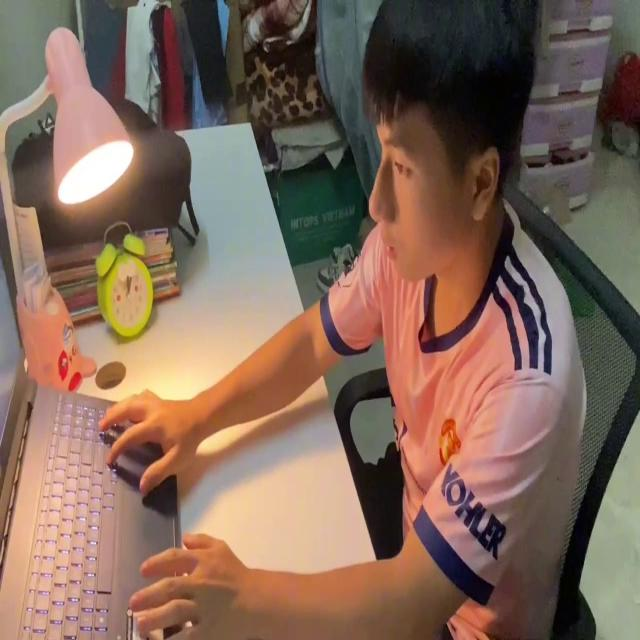laptop: (0, 250, 184, 640)
student: (99, 0, 591, 640)
